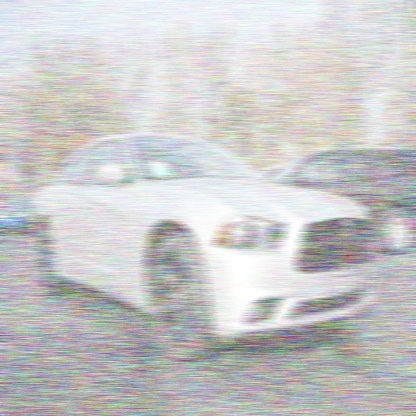Vehicle: (30, 127, 378, 366)
